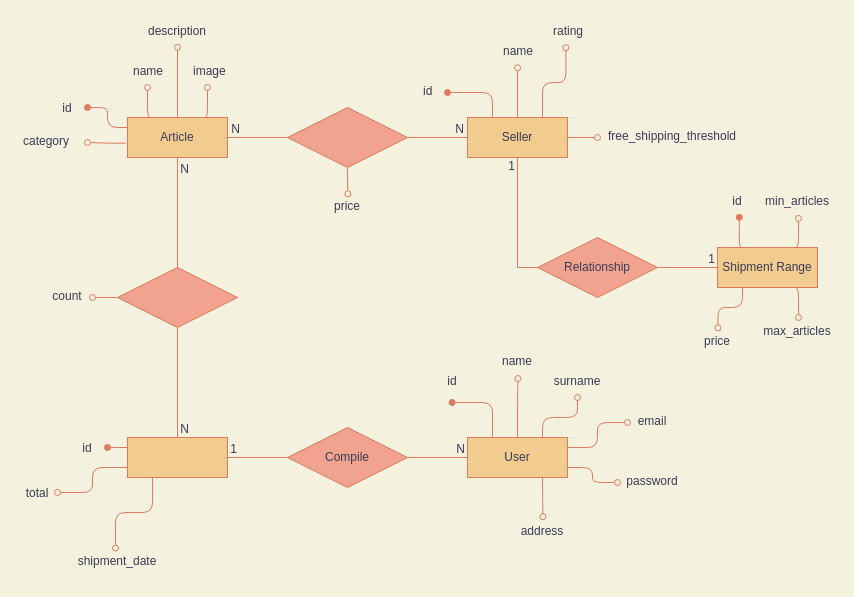
This 854x597 diagram has some shape labels left out. The shapes that lost their labels are listed below. From the top down, each one's centre as x and y in pixels, then its label:
At (347,137): "Sell".
At (177,297): "Contains".
At (177,457): "Order".
